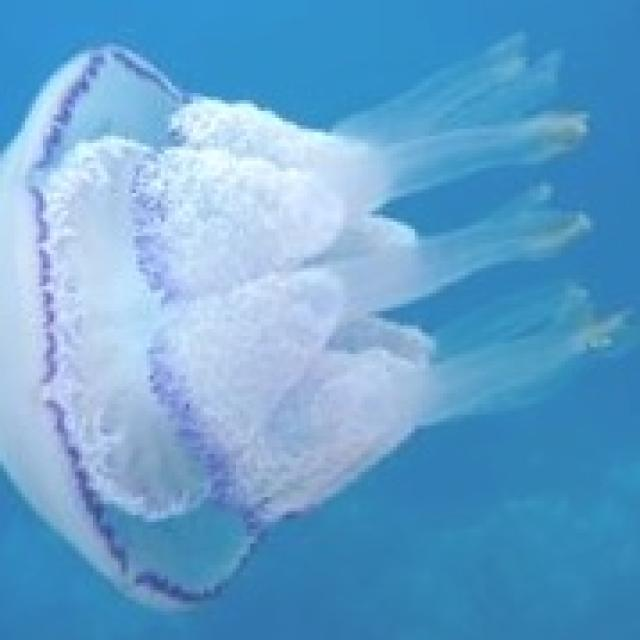Box-jellyfish: (0, 29, 601, 612)
